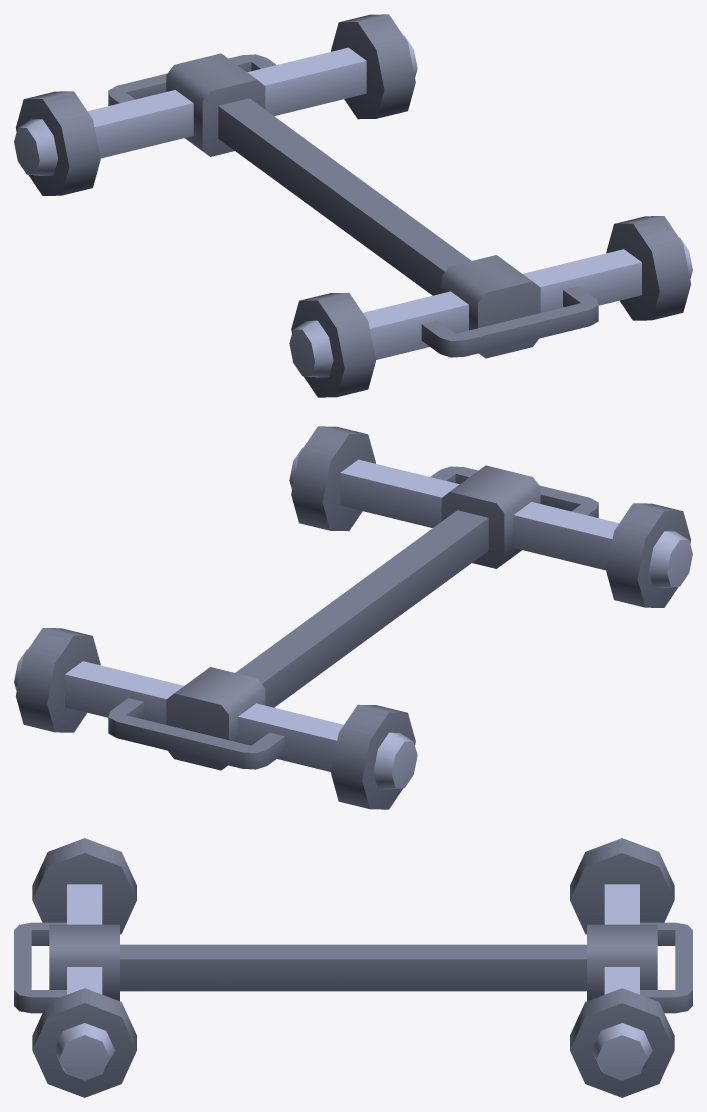
The picture shows the model from 3 angles, top to bottom: view 1: azimuth 30°, elevation 25°; view 2: azimuth 150°, elevation 25°; view 3: azimuth 270°, elevation 25°; orthographic projection. The views are drawn at different scales.
Visible parts, largest first — view 1: debris-drivetrain; view 2: debris-drivetrain; view 3: debris-drivetrain.
Boxes of the visible parts, x1,y1,x2,y2 form: debris-drivetrain: (14, 14, 692, 397); debris-drivetrain: (14, 426, 692, 809); debris-drivetrain: (14, 838, 692, 1097).
Bounding box in the file's own units: 1.2 × 0.296 × 1.92.
Materials: 1 (1 with a texture image).
